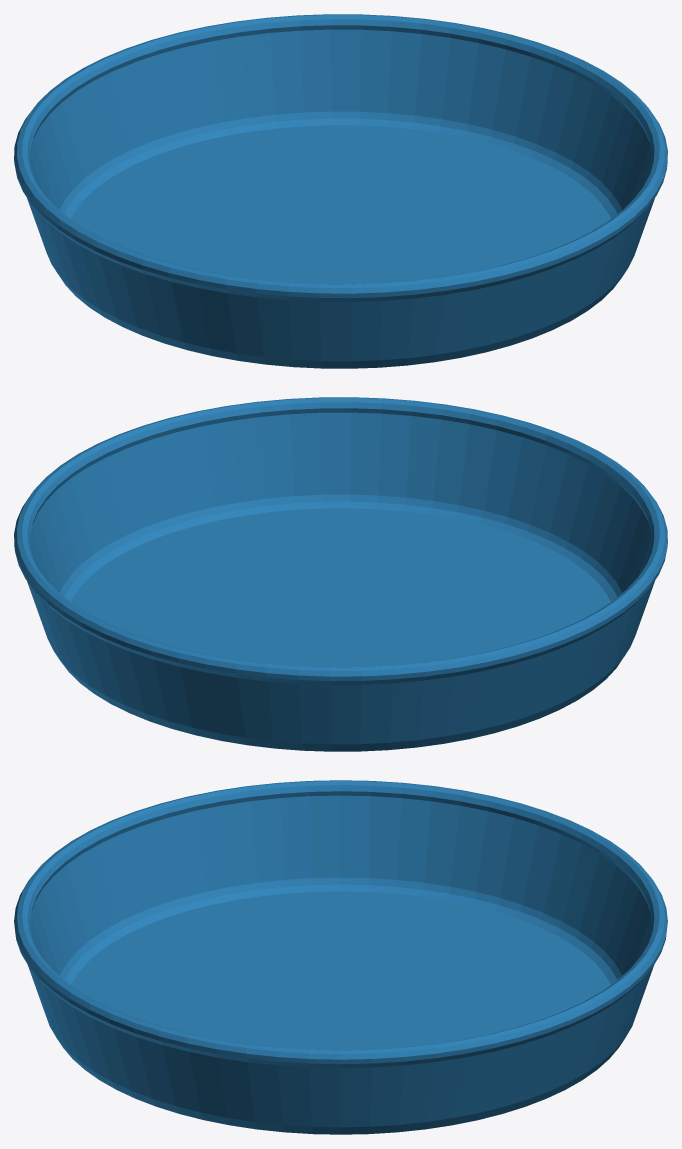
Rendered from full.glb.
The picture shows the model from 3 angles, top to bottom: view 1: azimuth 30°, elevation 25°; view 2: azimuth 150°, elevation 25°; view 3: azimuth 270°, elevation 25°; orthographic projection.
Parts seen in each view (by area): view 1: Continuous rigid paddling basin; view 2: Continuous rigid paddling basin; view 3: Continuous rigid paddling basin.
Part boxes in pixels (x1=…): Continuous rigid paddling basin: x1=14, y1=14, x2=667, y2=368; Continuous rigid paddling basin: x1=14, y1=397, x2=667, y2=751; Continuous rigid paddling basin: x1=14, y1=780, x2=667, y2=1134.
Size of the model in its own units: 1.11 by 0.19 by 1.11.
